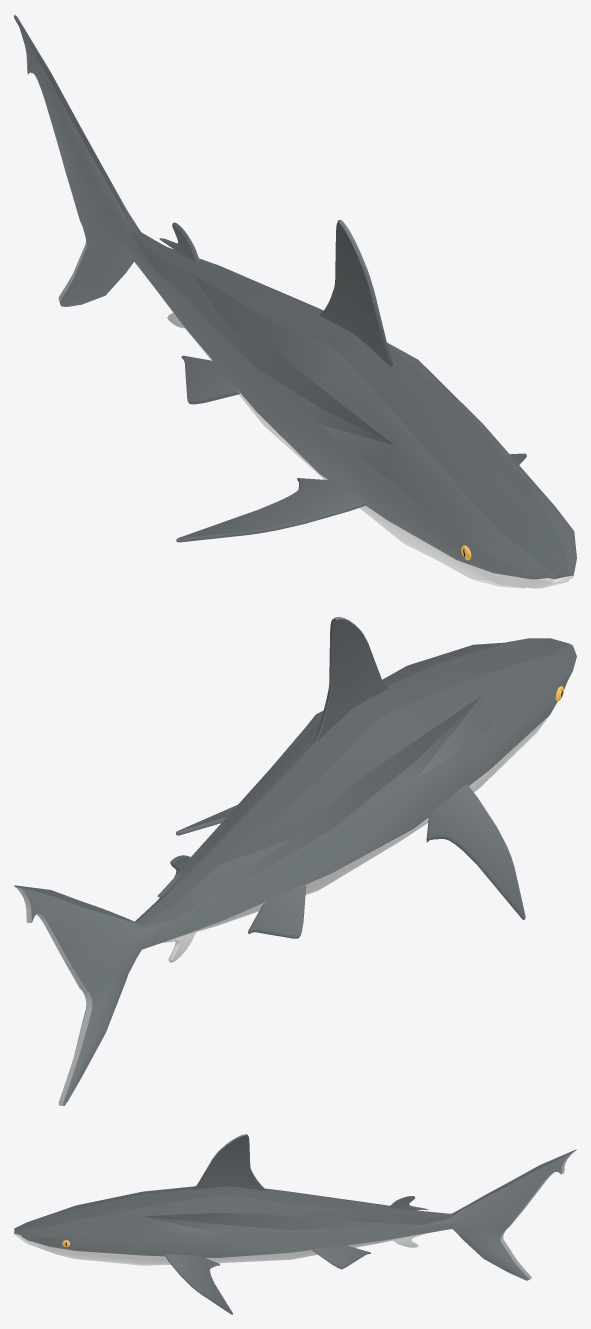
The model's file is shark.glb.
3 renders of one model, top to bottom at view 1: azimuth 30°, elevation 25°; view 2: azimuth 150°, elevation 25°; view 3: azimuth 270°, elevation 25°, orthographic. The views are drawn at different scales.
Visible parts, largest first — view 1: minialeta_2_1; view 2: minialeta_2_1; view 3: minialeta_2_1.
Boxes of the visible parts, left/top/right/bottom form: minialeta_2_1: left=14, top=14, right=576, bottom=588; minialeta_2_1: left=14, top=617, right=576, bottom=1105; minialeta_2_1: left=14, top=1134, right=576, bottom=1314.
Size of the model in its own units: 2.37 by 1.85 by 6.45.
Materials: 2 (2 with a texture image).
